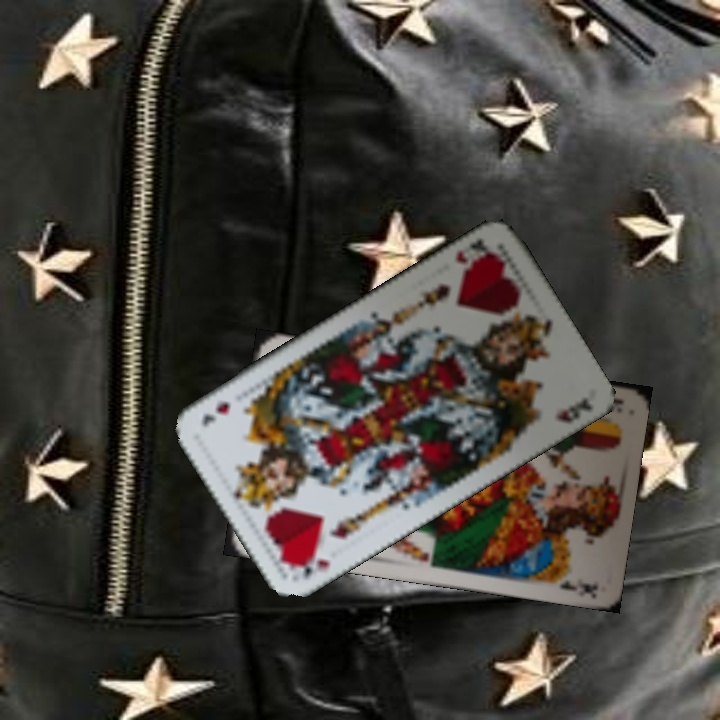HK: (450, 233, 497, 274), (286, 550, 333, 579)
